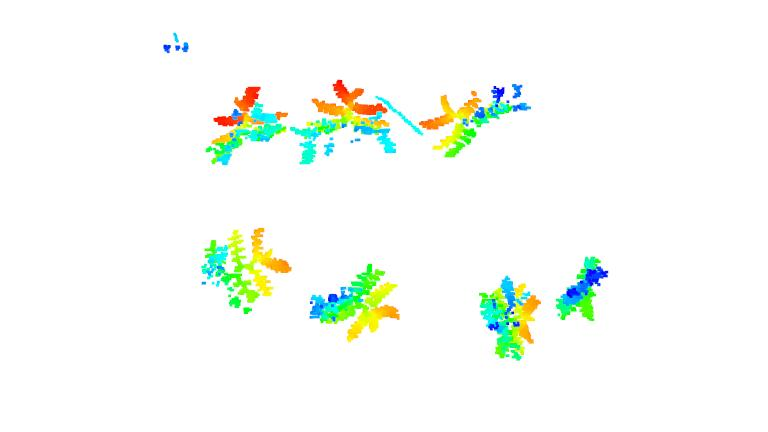chickpea: (294, 78, 398, 166), (416, 82, 531, 159), (202, 226, 292, 314), (308, 263, 405, 344), (204, 86, 290, 168), (477, 276, 544, 361), (552, 256, 609, 324)
